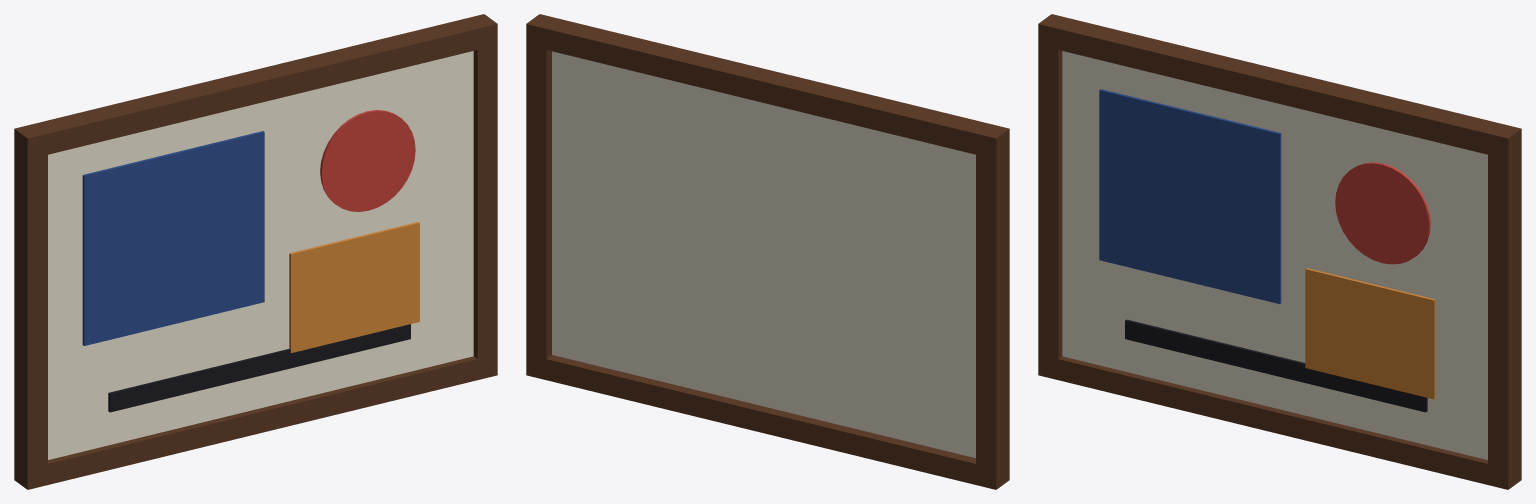
The model's file is wall-painting.glb.
The picture shows the model from 3 angles, left to right: view 1: azimuth 30°, elevation 25°; view 2: azimuth 150°, elevation 25°; view 3: azimuth 330°, elevation 25°; orthographic projection.
Visible parts, largest first — view 1: Wall painting; view 2: Wall painting; view 3: Wall painting.
Boxes of the visible parts, <box> form: Wall painting: <box>14,14,497,489</box>; Wall painting: <box>526,14,1009,489</box>; Wall painting: <box>1038,14,1521,489</box>.
Size of the model in its own units: 0.7 by 0.5 by 0.035.
